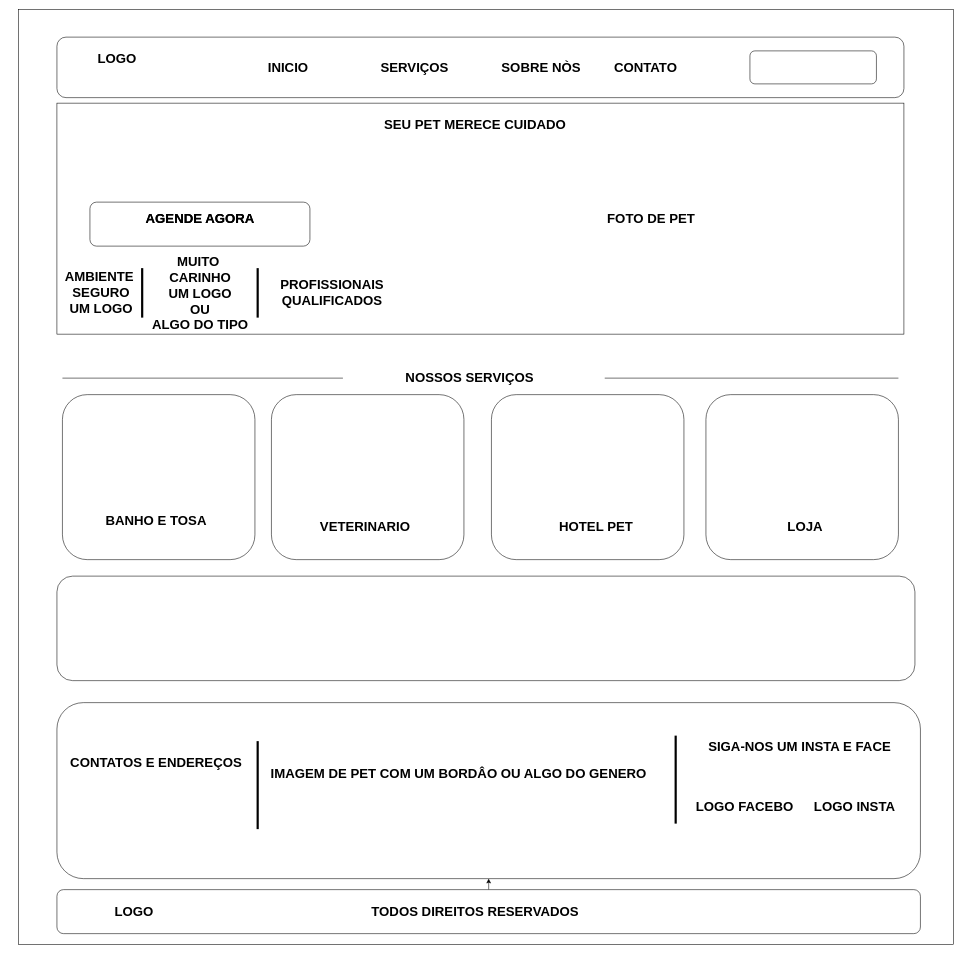
The diagram is 963 pixels wide and 954 high, and some of its shapes have lost their labels. The centre of each missing label's shape, as x and y in pixels:
"AGENDAR" goes at [812,67].
"PORQUE ESCOLHER NOSSO PETSHOP" goes at [485,628].
